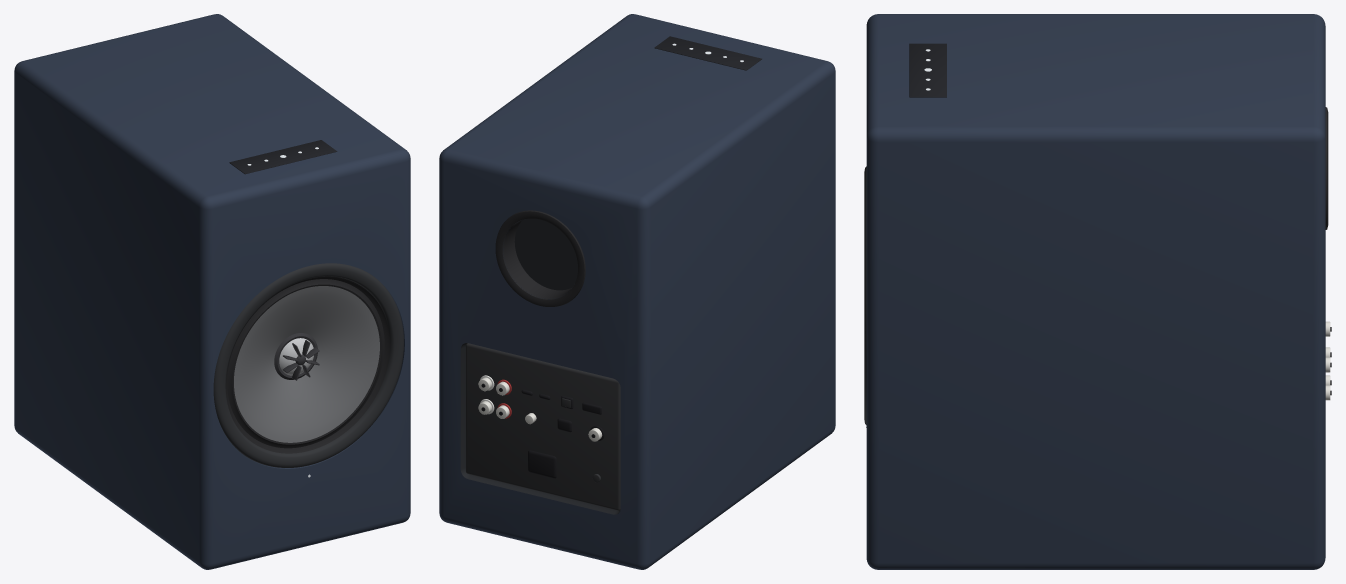
The model's file is coda.glb.
The picture shows the model from 3 angles, left to right: view 1: azimuth 30°, elevation 25°; view 2: azimuth 150°, elevation 25°; view 3: azimuth 270°, elevation 25°; orthographic projection. The views are drawn at different scales.
Parts seen in each view (by area): view 1: cabinet_fabric, cone_metal, trim_ring, surround_rubber, touch_gloss, plug_plastic, dome_metal; view 2: cabinet_fabric, panel_plastic, port_plastic, touch_gloss, connector_dark, connector_metal; view 3: cabinet_fabric, touch_gloss, trim_ring.
Part boxes in pixels (bbox=[...]): cabinet_fabric: bbox=[14, 14, 410, 569]; cone_metal: bbox=[234, 286, 379, 442]; trim_ring: bbox=[213, 263, 403, 467]; surround_rubber: bbox=[225, 276, 390, 453]; touch_gloss: bbox=[229, 140, 337, 174]; plug_plastic: bbox=[274, 333, 319, 380]; dome_metal: bbox=[279, 338, 313, 375]; cabinet_fabric: bbox=[439, 14, 835, 569]; panel_plastic: bbox=[466, 343, 620, 510]; port_plastic: bbox=[495, 210, 585, 306]; touch_gloss: bbox=[654, 36, 761, 70]; connector_dark: bbox=[481, 383, 604, 478]; connector_metal: bbox=[478, 377, 602, 441]; cabinet_fabric: bbox=[866, 14, 1325, 569]; touch_gloss: bbox=[909, 43, 946, 97]; trim_ring: bbox=[864, 166, 866, 425].
Size of the model in its own units: 0.168 by 0.2875 by 0.2727.
